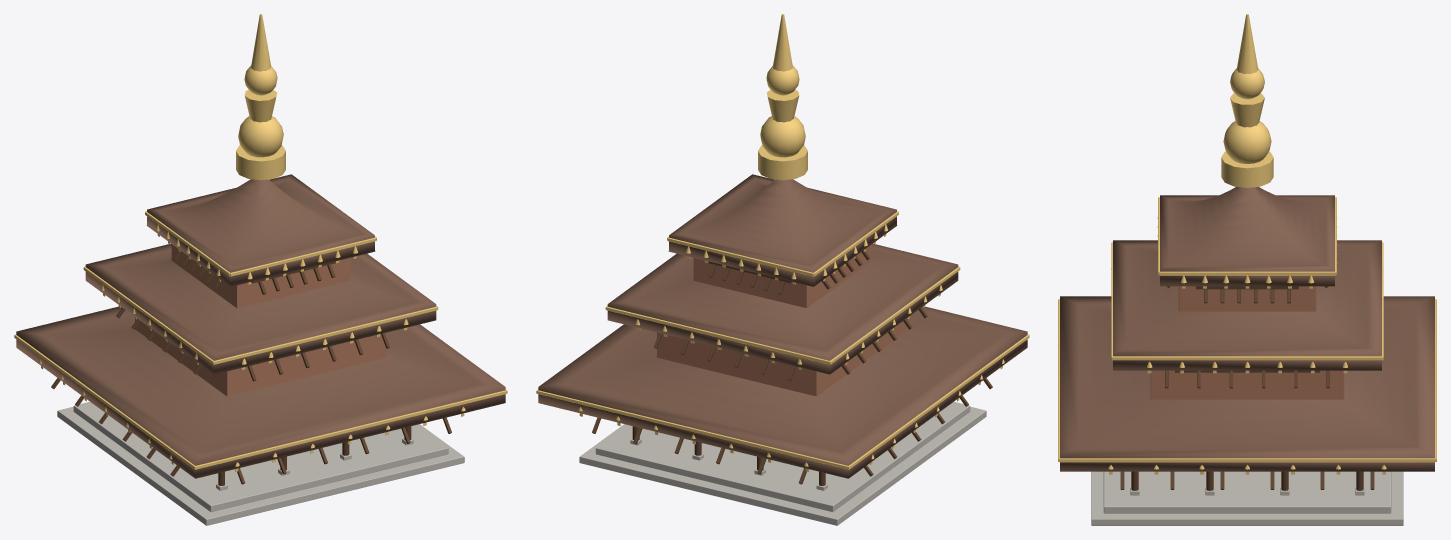
Rendered from kasthamandap.glb.
The picture shows the model from 3 angles, left to right: view 1: azimuth 30°, elevation 25°; view 2: azimuth 150°, elevation 25°; view 3: azimuth 270°, elevation 25°; orthographic projection. The views are drawn at different scales.
Parts seen in each view (by area): view 1: kasthamandap; view 2: kasthamandap; view 3: kasthamandap.
Part boxes in pixels (x1,y1,x2,y2): kasthamandap: [14, 14, 507, 525]; kasthamandap: [536, 14, 1029, 525]; kasthamandap: [1058, 14, 1436, 525].
Size of the model in its own units: 1.21 by 1.57 by 1.21.
